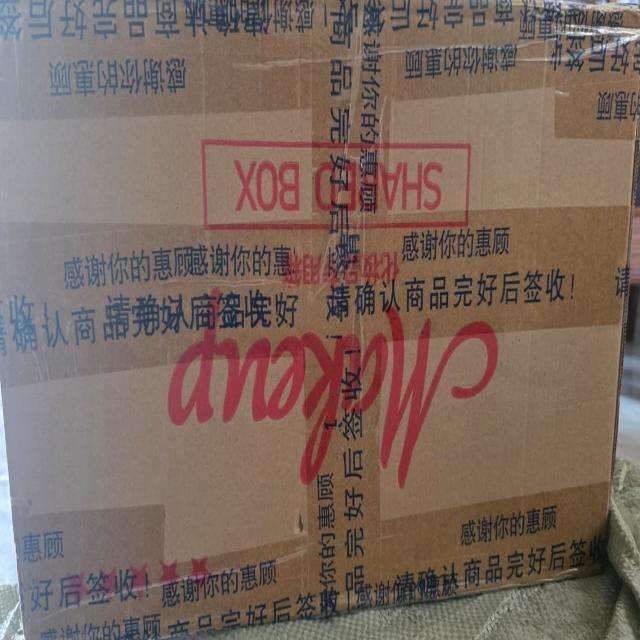carton_box: (0, 0, 640, 639)
package_damage: (284, 488, 317, 558)
